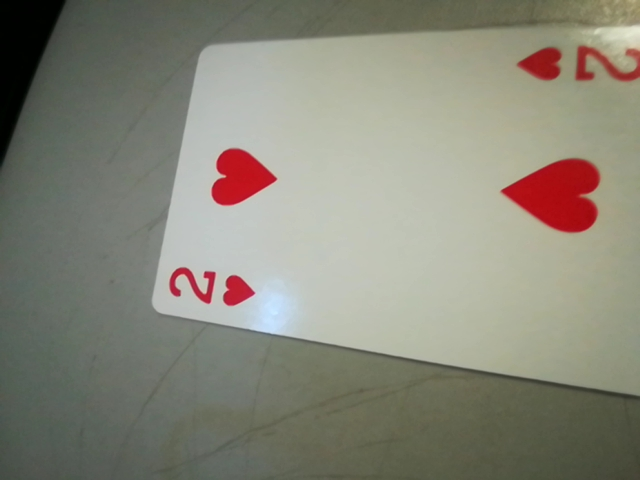hx 2: (513, 39, 637, 91)
